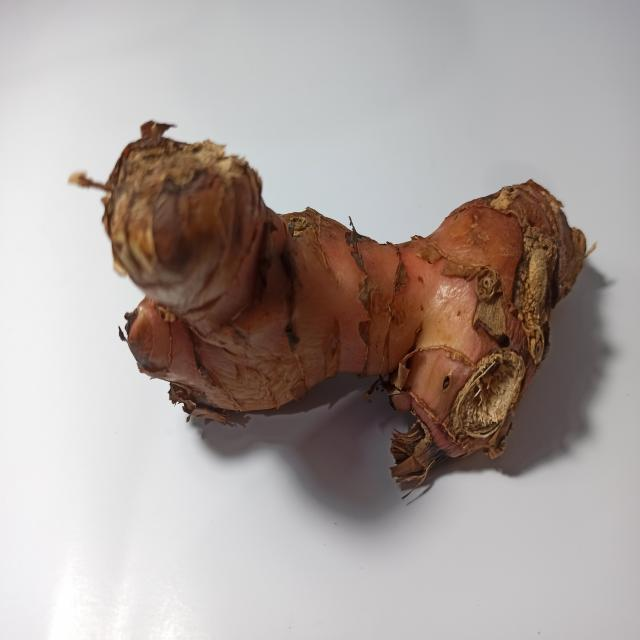ginger: (91, 109, 574, 463)
